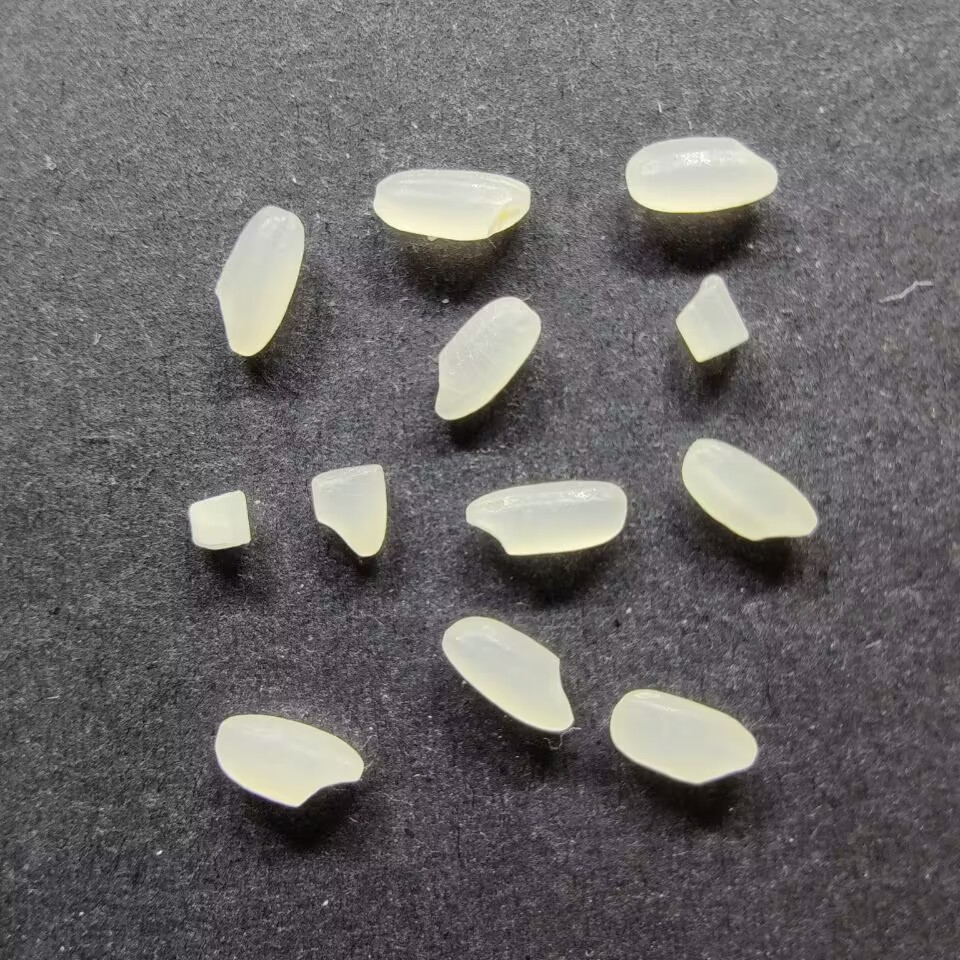broken: (308, 463, 389, 558), (674, 272, 749, 364), (186, 488, 251, 552)
rice: (439, 614, 575, 734), (607, 687, 759, 786), (211, 712, 364, 808), (212, 203, 306, 358), (679, 437, 819, 541), (433, 295, 541, 420), (463, 479, 628, 557), (371, 167, 532, 242), (624, 135, 778, 213)
